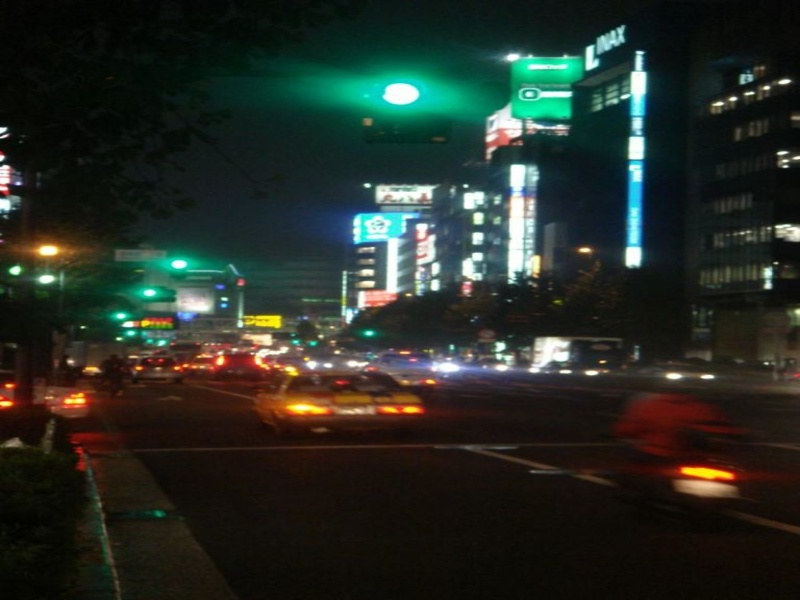green_light: (366, 70, 438, 121), (160, 252, 198, 278), (135, 285, 162, 300), (109, 309, 130, 321)
